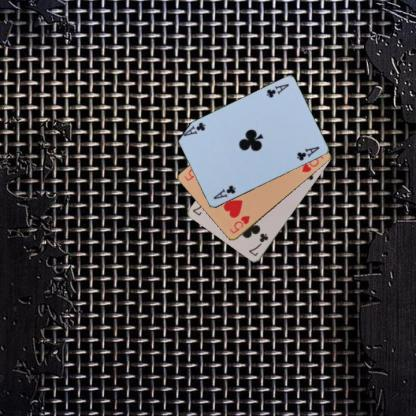5h: (228, 213, 250, 235)
7c: (246, 230, 270, 258)
Ac: (263, 82, 290, 100), (211, 182, 237, 200)
